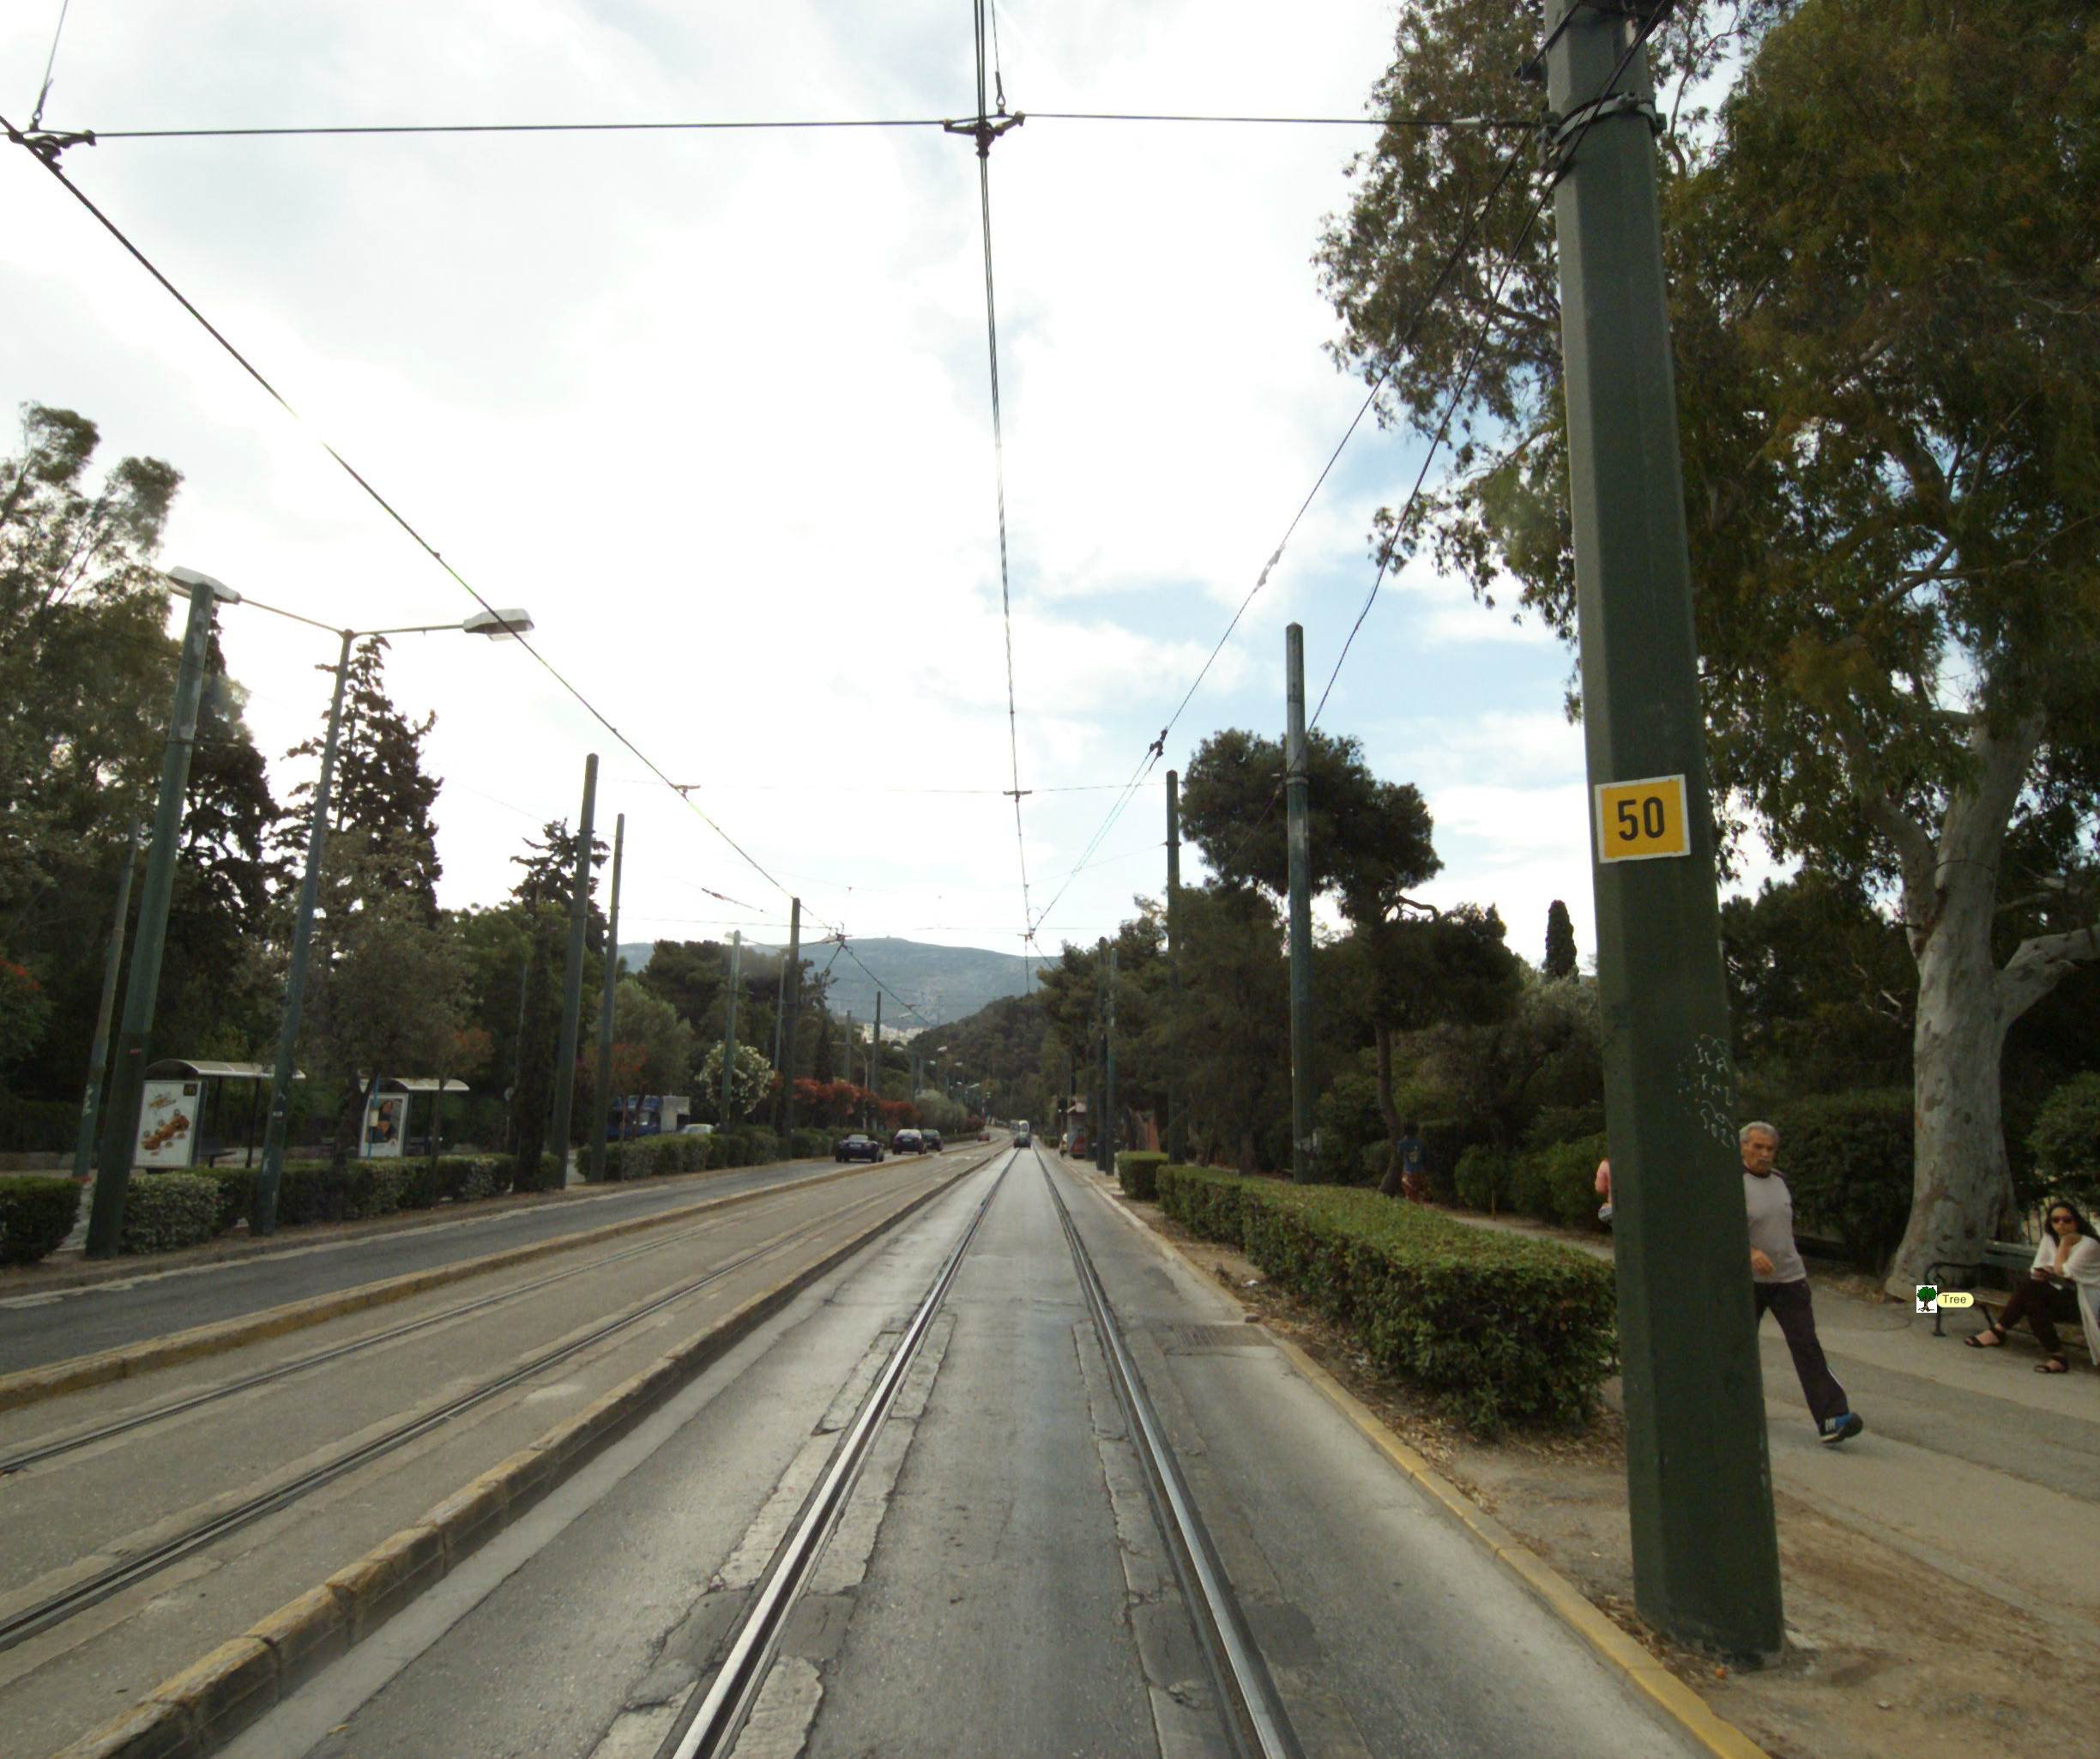tree: (1660, 7, 2100, 1298)
